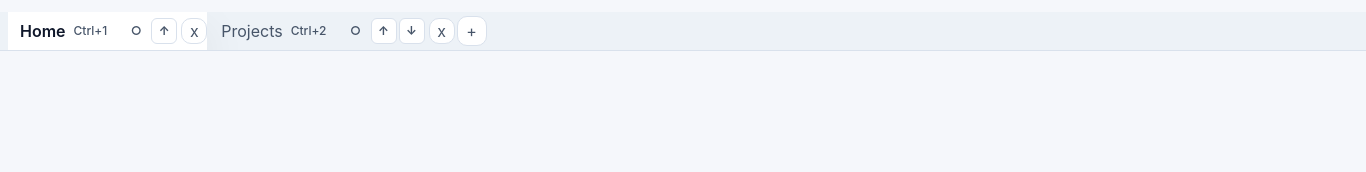
WorkspaceTabBar › keeps delete enabled when a snapshot exists but the delete predicate allows deletion
Expected: the button "Projects Ctrl+2" is shown, [209, 12, 338, 50]
Expected: the button named "Unpublish Projects" reads "↓", [398, 18, 424, 44]
Click the button named "Delete Projects" at (442, 31), box [428, 18, 454, 44]
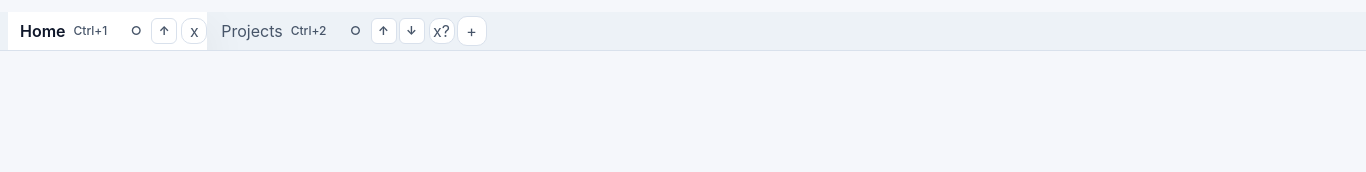
Expected: the button named "Confirm delete Projects" reads "x?", [428, 18, 454, 44]
